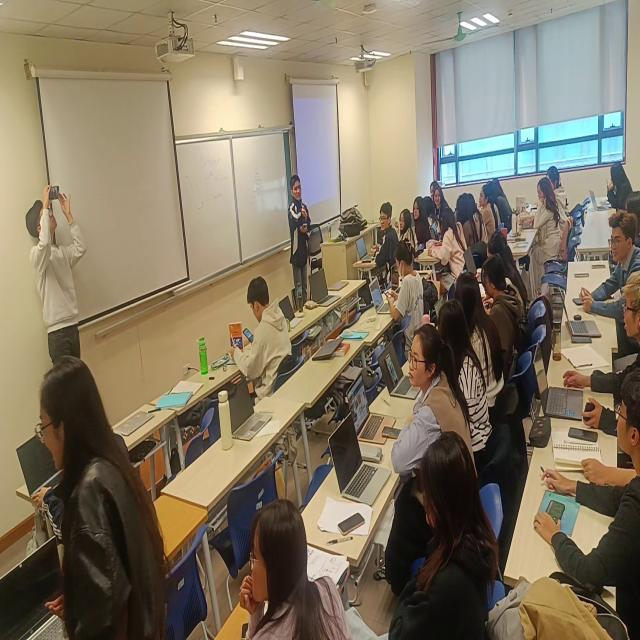raise_head: (232, 501, 313, 640), (402, 316, 447, 399), (609, 361, 640, 464), (480, 183, 493, 216)
stand: (40, 359, 165, 640), (27, 186, 89, 361), (286, 170, 314, 308)
using_computer: (374, 247, 430, 329)
using_phone: (241, 266, 289, 388)
